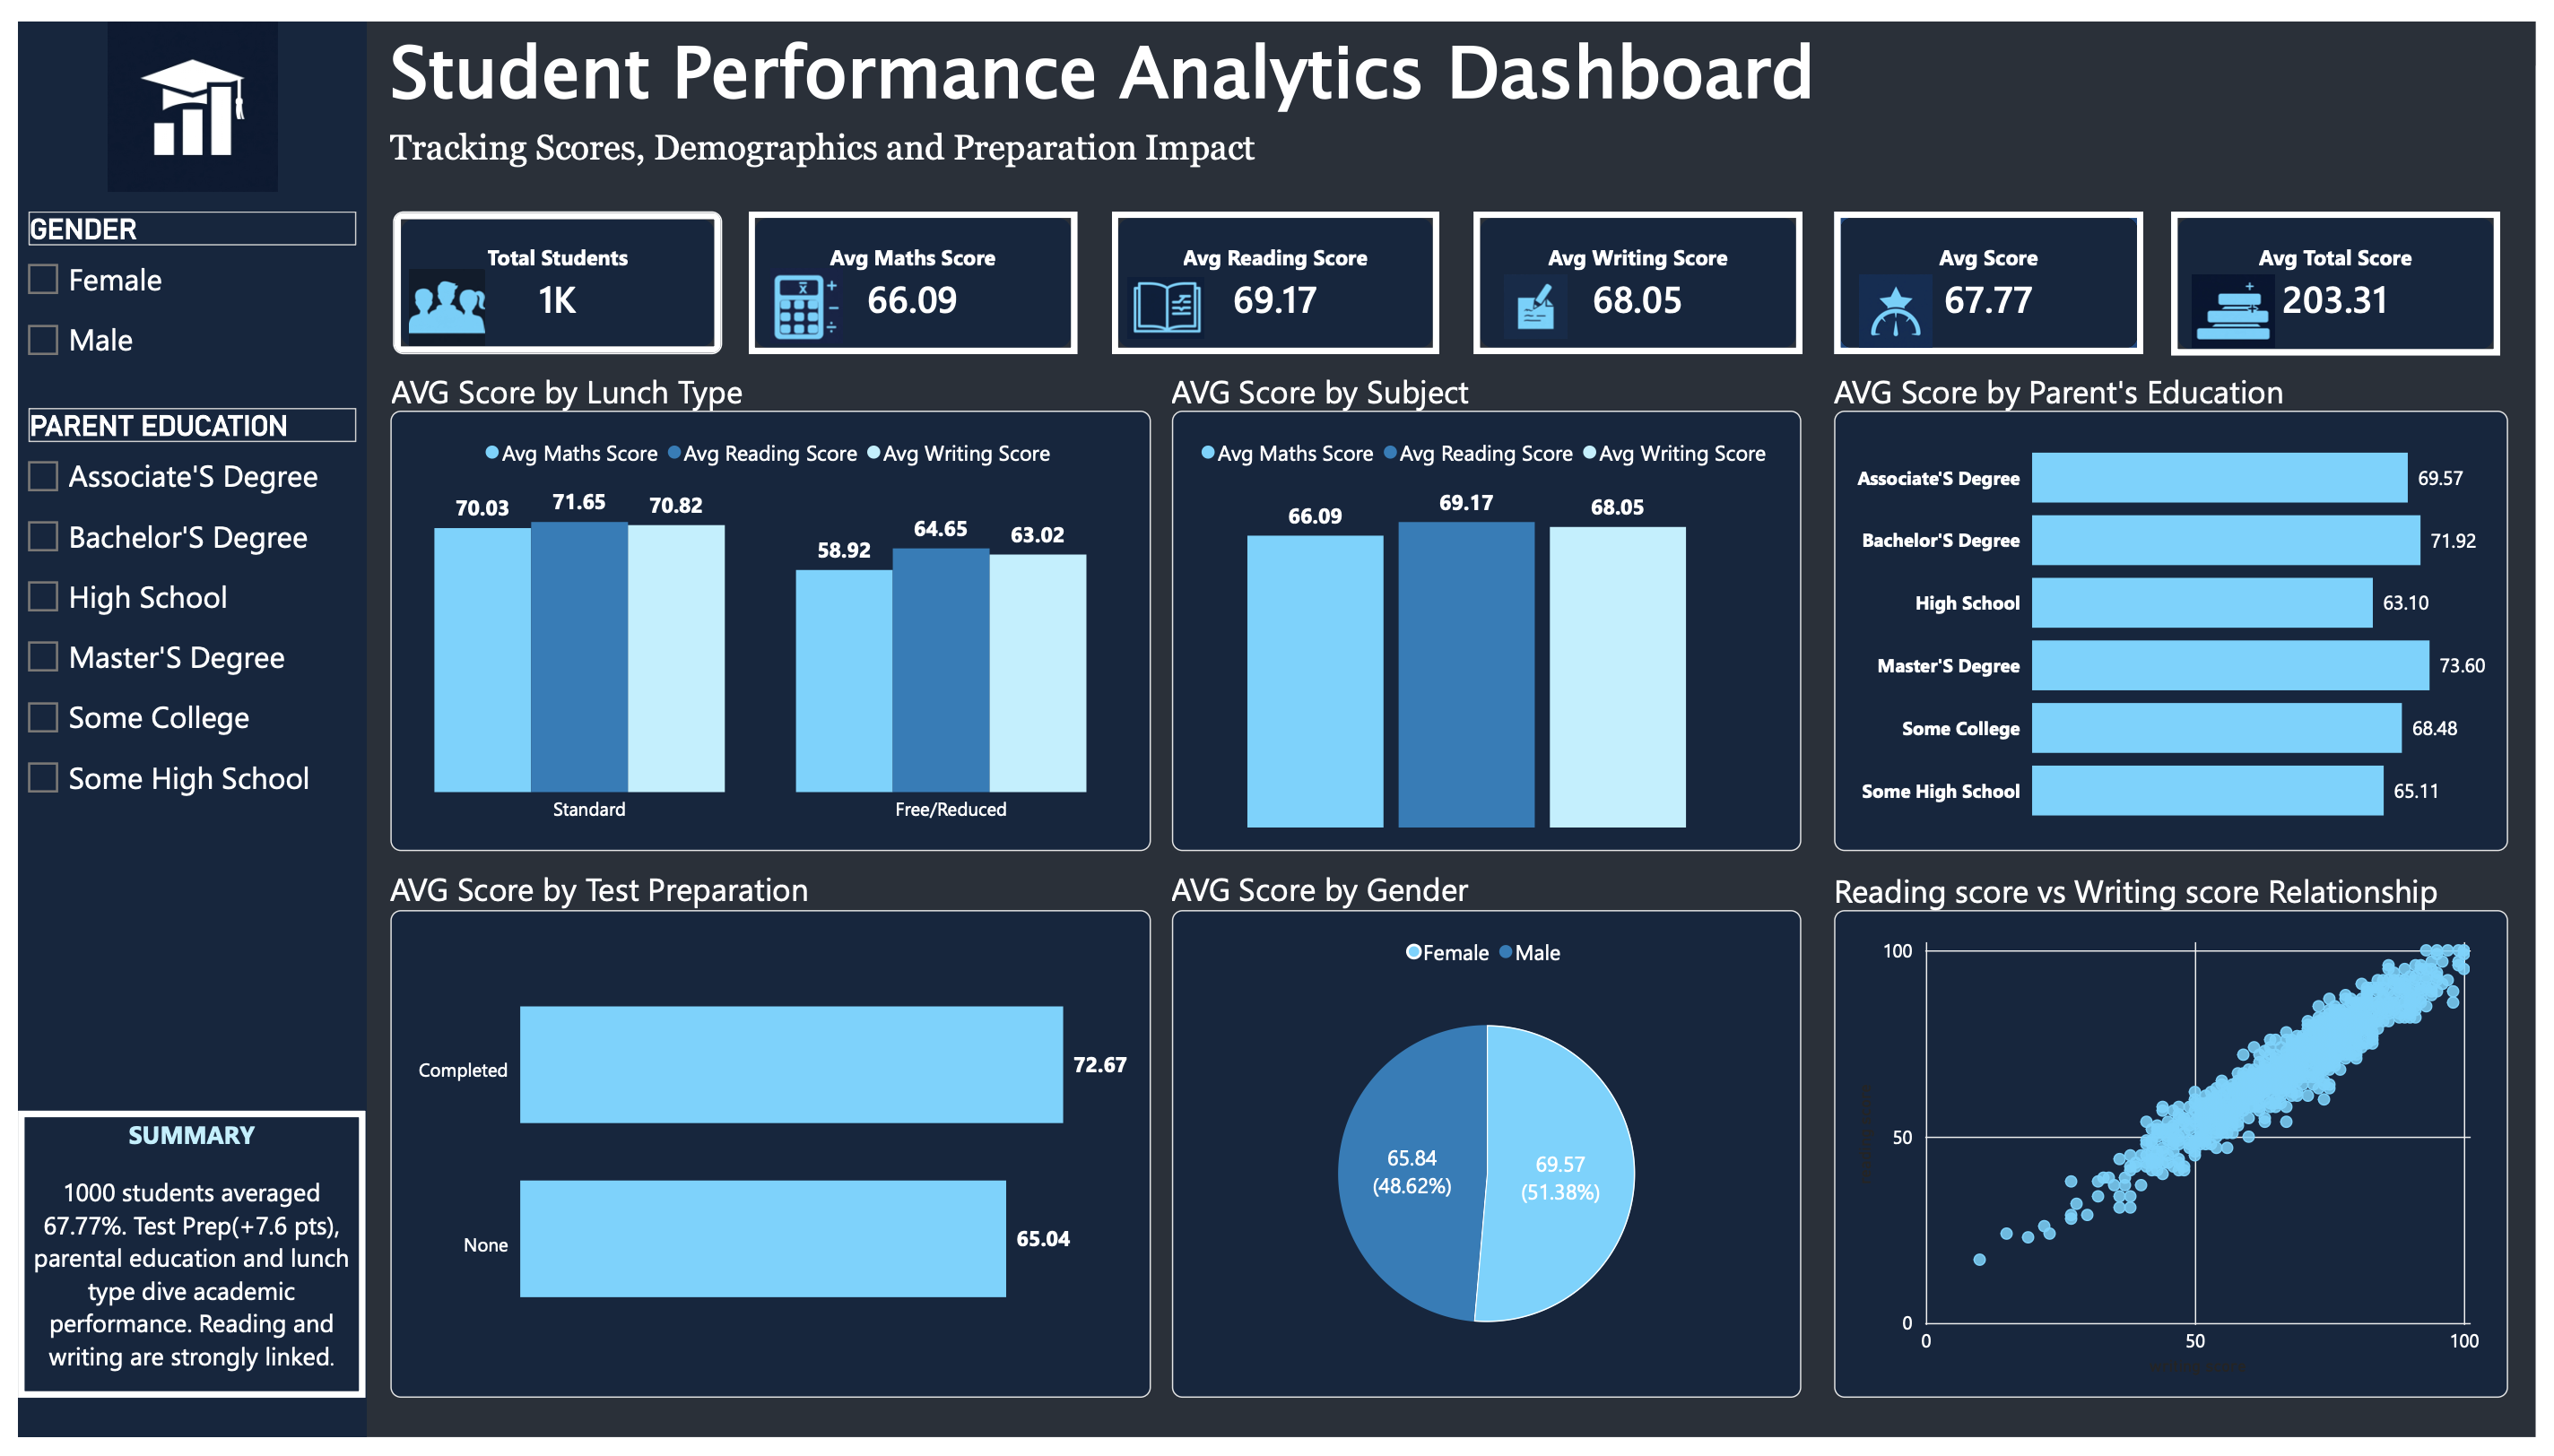

What the dashboard file says about the page in this screenshot:
{"tool":"powerbi","page":{"name":"Student Performance","canvas":[1920,1080],"ordinal":0},"visuals":[{"type":"cardVisual","fields":{"Data":["StudentsPerformance.Total Students"]},"box":[286,144.8,250.7,109.6],"z":0},{"type":"cardVisual","fields":{"Data":["StudentsPerformance.Avg Maths Score"]},"box":[557.1,144.8,250.7,109.6],"z":1000},{"type":"cardVisual","fields":{"Data":["StudentsPerformance.Avg Reading Score"]},"box":[833.7,144.8,250.7,109.6],"z":2000},{"type":"textbox","box":[0,0,265.5,1080.7],"z":3000},{"type":"textbox","box":[284.1,0,1557.9,130],"z":4000},{"type":"barChart","fields":{"Category":["StudentsPerformance.Test_Prep"],"Y":["StudentsPerformance.Avg Score"]},"box":[283.6,677.7,580.4,372.6],"z":5000},{"type":"barChart","fields":{"Category":["StudentsPerformance.Parent's_Education"],"Y":["StudentsPerformance.Avg Score"]},"box":[1385,296.8,514.4,336.4],"z":6000},{"type":"clusteredColumnChart","fields":{"Y":["StudentsPerformance.Avg Maths Score","StudentsPerformance.Avg Reading Score","StudentsPerformance.Avg Writing Score"]},"box":[880.5,296.8,479.8,336.4],"z":7000},{"type":"clusteredColumnChart","fields":{"Category":["StudentsPerformance.lunch"],"Y":["StudentsPerformance.Avg Maths Score","StudentsPerformance.Avg Reading Score","StudentsPerformance.Avg Writing Score"]},"box":[283.6,296.8,580.4,336.4],"z":8000},{"type":"textbox","box":[285.3,265.5,300.1,46.2],"z":9000},{"type":"cardVisual","fields":{"Data":["StudentsPerformance.Avg_score_measure"]},"box":[1385.2,144.8,235.8,109.6],"z":10000},{"type":"pieChart","fields":{"Category":["StudentsPerformance.gender"],"Y":["StudentsPerformance.Avg Score"]},"box":[880.5,677.7,479.8,372.6],"z":11000},{"type":"scatterChart","fields":{"X":["StudentsPerformance.writing score"],"Y":["StudentsPerformance.reading score"]},"box":[1385,677.7,514.4,372.6],"z":12000},{"type":"textbox","box":[880.5,265.5,420.5,59.4],"z":13000},{"type":"textbox","box":[283.6,644.7,407.3,33],"z":14000},{"type":"textbox","box":[880.5,644.7,300.1,44.5],"z":15000},{"type":"textbox","box":[1385,646.4,514.4,44.5],"z":16000},{"type":"textbox","box":[1385,265.5,392.4,46.2],"z":17000},{"type":"slicer","fields":{"Values":["StudentsPerformance.gender"]},"box":[0,144.8,265.5,150.4],"z":18000},{"type":"slicer","fields":{"Values":["StudentsPerformance.Parent's_Education"]},"box":[0,295.2,265.5,319.4],"z":19000},{"type":"cardVisual","fields":{"Data":["StudentsPerformance.Avg Writing Score"]},"box":[1110.4,144.8,250.7,109.6],"z":20000},{"type":"cardVisual","fields":{"Data":["StudentsPerformance.Avg Total Score"]},"box":[1642.3,145.1,250.7,109.6],"z":21000},{"type":"image","box":[0,0,265.5,130.3],"z":21001},{"type":"image","box":[298.4,186.3,57.7,64.3],"z":21002},{"type":"image","box":[573.8,184.7,55,64],"z":21003},{"type":"image","box":[845.9,184.7,59.4,67.6],"z":21004},{"type":"image","box":[1121.2,192.9,72.5,49.5],"z":21005},{"type":"image","box":[1398.2,192.9,67.6,56.1],"z":21006},{"type":"image","box":[1653.8,192.9,70.9,56.1],"z":21007},{"type":"textbox","box":[0,831,265.5,219.3],"z":21008}]}

Visuals, with their boxes in screenshot pixels (x1, y1, x2, y2), scaled from the page's 1920x1080 canvas onto the 2554x1456 screenshot:
cardVisual - StudentsPerformance.Total Students: [x1=380, y1=195, x2=714, y2=343]
cardVisual - StudentsPerformance.Avg Maths Score: [x1=741, y1=195, x2=1074, y2=343]
cardVisual - StudentsPerformance.Avg Reading Score: [x1=1109, y1=195, x2=1443, y2=343]
textbox: [x1=0, y1=0, x2=353, y2=1455]
textbox: [x1=378, y1=0, x2=2450, y2=175]
barChart - StudentsPerformance.Test_Prep x StudentsPerformance.Avg Score: [x1=378, y1=914, x2=1150, y2=1416]
barChart - StudentsPerformance.Parent's_Education x StudentsPerformance.Avg Score: [x1=1842, y1=400, x2=2526, y2=854]
clusteredColumnChart - StudentsPerformance.Avg Maths Score x StudentsPerformance.Avg Reading Score: [x1=1171, y1=400, x2=1810, y2=854]
clusteredColumnChart - StudentsPerformance.lunch x StudentsPerformance.Avg Maths Score: [x1=378, y1=400, x2=1150, y2=854]
textbox: [x1=379, y1=358, x2=778, y2=420]
cardVisual - StudentsPerformance.Avg_score_measure: [x1=1843, y1=195, x2=2156, y2=343]
pieChart - StudentsPerformance.gender x StudentsPerformance.Avg Score: [x1=1171, y1=914, x2=1810, y2=1416]
scatterChart - StudentsPerformance.writing score x StudentsPerformance.reading score: [x1=1842, y1=914, x2=2526, y2=1416]
textbox: [x1=1171, y1=358, x2=1731, y2=438]
textbox: [x1=378, y1=869, x2=919, y2=914]
textbox: [x1=1171, y1=869, x2=1570, y2=929]
textbox: [x1=1842, y1=871, x2=2526, y2=932]
textbox: [x1=1842, y1=358, x2=2364, y2=420]
slicer - StudentsPerformance.gender: [x1=0, y1=195, x2=353, y2=398]
slicer - StudentsPerformance.Parent's_Education: [x1=0, y1=398, x2=353, y2=828]
cardVisual - StudentsPerformance.Avg Writing Score: [x1=1477, y1=195, x2=1811, y2=343]
cardVisual - StudentsPerformance.Avg Total Score: [x1=2185, y1=195, x2=2518, y2=343]
image: [x1=0, y1=0, x2=353, y2=176]
image: [x1=397, y1=251, x2=473, y2=338]
image: [x1=763, y1=249, x2=837, y2=335]
image: [x1=1125, y1=249, x2=1204, y2=340]
image: [x1=1491, y1=260, x2=1588, y2=326]
image: [x1=1860, y1=260, x2=1950, y2=335]
image: [x1=2200, y1=260, x2=2294, y2=335]
textbox: [x1=0, y1=1121, x2=353, y2=1416]
